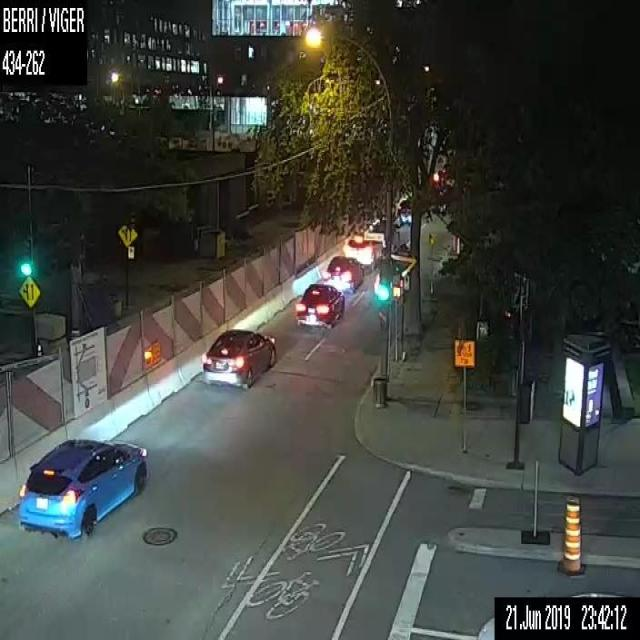construction: (451, 336, 475, 452), (558, 496, 584, 575)
vehicle: (16, 436, 148, 537), (200, 325, 276, 388), (294, 284, 344, 329), (342, 229, 385, 270), (374, 255, 410, 298), (324, 254, 364, 292)
